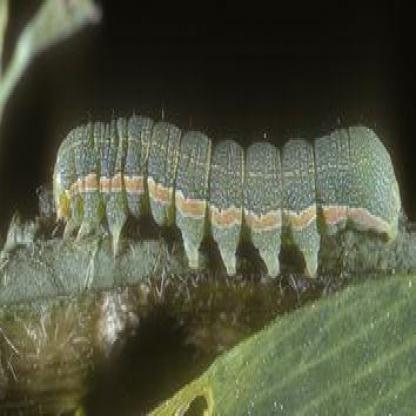armyworm: (49, 111, 408, 290)
